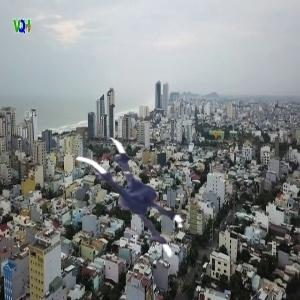drone: (57, 136, 193, 272)
